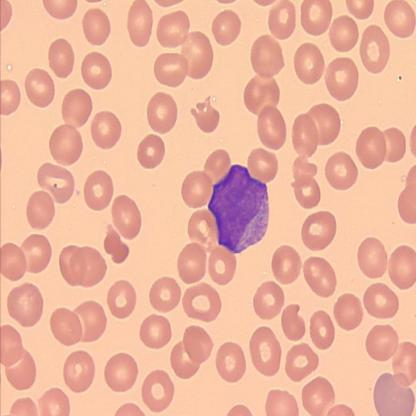Myelocyte: (207, 162, 273, 254)
